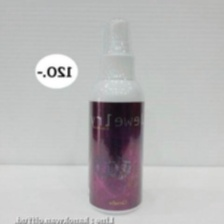cleaning_solution: (85, 14, 148, 216)
